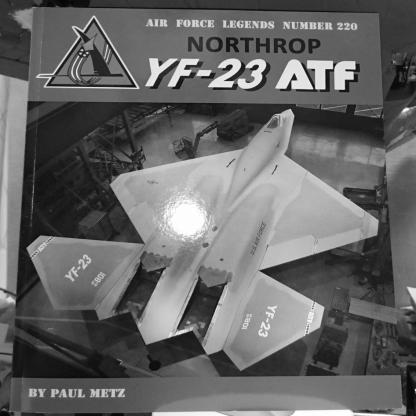YF23: (27, 109, 380, 372)
